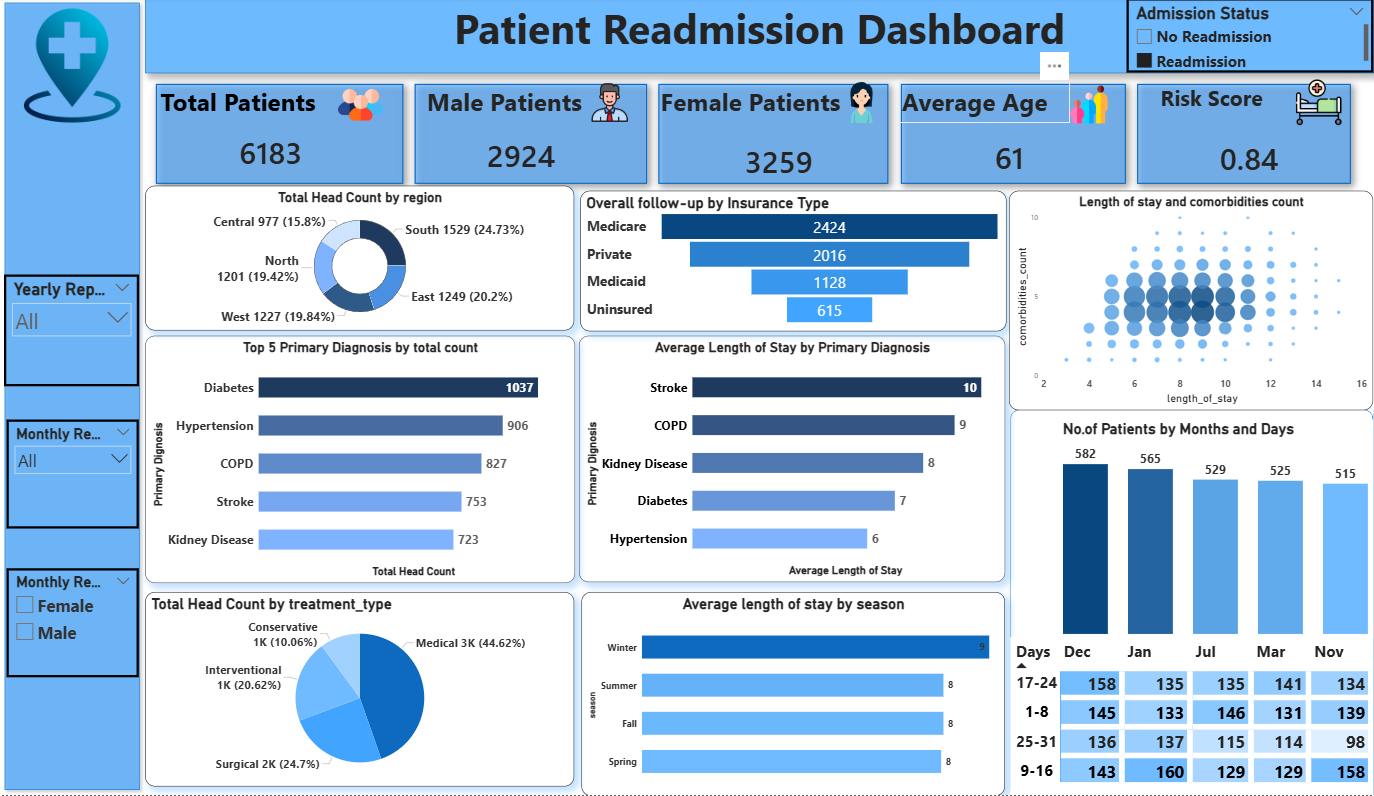

Layout of this report page (visuals, bound fields, positions):
{"tool":"powerbi","page":{"name":"Page 1","canvas":[2410,1400],"ordinal":0},"visuals":[{"type":"shape","box":[1773,723.2,636.1,677.3],"z":0},{"type":"shape","box":[256.4,0,2154.4,133.7],"z":1000},{"type":"shape","box":[0,0,256.4,1400.4],"z":2000},{"type":"shape","box":[256.4,133.7,471.2,212.6],"z":3000},{"type":"textbox","box":[256.4,0,2154.4,133.7],"z":4000},{"type":"image","box":[0,18.7,257.1,201.1],"z":5000},{"type":"cardVisual","title":"Total Patients","fields":{"Data":["hospital_readmission_dataset.Total Head Count"]},"box":[278.3,219.2,396.7,100.8],"z":6000},{"type":"shape","box":[710.1,133.7,444.9,212.6],"z":7000},{"type":"cardVisual","title":"Total Patients","fields":{"Data":["hospital_readmission_dataset.Male Patients"]},"box":[727.6,225.7,374.8,98.6],"z":8000},{"type":"textbox","box":[278.3,149,284.9,109.6],"z":9000},{"type":"shape","box":[1137.5,133.7,440.5,212.6],"z":10000},{"type":"cardVisual","title":"Total Patients","fields":{"Data":["hospital_readmission_dataset.Female Patients"]},"box":[1170.3,241.1,392.3,87.7],"z":11000},{"type":"shape","box":[1562.6,133.7,431.7,212.6],"z":12000},{"type":"shape","box":[1976.8,133.7,412,212.6],"z":13000},{"type":"cardVisual","title":"Total Patients","fields":{"Data":["hospital_readmission_dataset.Average Age"]},"box":[1597.7,234.5,346.3,87.7],"z":14000},{"type":"textbox","box":[745.2,149,304.6,96.4],"z":15000},{"type":"textbox","box":[1155,149,337.5,72.3],"z":16000},{"type":"textbox","box":[1578,149,300.3,72.3],"z":17000},{"type":"image","box":[590.2,150,89.5,79.8],"z":18000},{"type":"image","box":[1027.9,149,85.5,72.3],"z":19000},{"type":"image","box":[1461.8,149,100.8,72.3],"z":20000},{"type":"image","box":[1878.2,151.2,65.7,74.5],"z":21000},{"type":"cardVisual","title":"Total Patients","fields":{"Data":["hospital_readmission_dataset.Readmission Risk Score"]},"box":[2031.6,232.3,320,92],"z":22000},{"type":"textbox","box":[2031.6,146.8,227.9,74.5],"z":23000},{"type":"image","box":[2259.2,145.1,108.8,79.8],"z":24000},{"type":"donutChart","fields":{"Category":["hospital_readmission_dataset.region"],"Y":["hospital_readmission_dataset.Total Head Count"]},"box":[256.4,331.4,752.3,254],"z":28000},{"type":"barChart","title":"Top 5 Primary Diagnosis by total count","fields":{"Category":["hospital_readmission_dataset.primary_diagnosis"],"Y":["hospital_readmission_dataset.Total Head Count"]},"box":[256.4,593.9,753.9,433.9],"z":29000},{"type":"barChart","title":"Average Length of Stay by Primary Diagnosis","fields":{"Category":["hospital_readmission_dataset.primary_diagnosis"],"Y":["hospital_readmission_dataset.Average Length of Stay"]},"box":[1016.9,593.9,747.3,431.7],"z":30000},{"type":"funnel","title":"Overall follow-up by Insurance Type","fields":{"Category":["hospital_readmission_dataset.insurance_type"],"Y":["CountNonNull(hospital_readmission_dataset.followup_visits_last_year)"]},"box":[1018.3,338.6,747.4,246.7],"z":31000},{"type":"clusteredBarChart","title":"Average  length of stay by season","fields":{"Category":["hospital_readmission_dataset.season"],"Y":["Avg(hospital_readmission_dataset.length_of_stay)"]},"box":[1020.7,1042.5,742.6,358],"z":32000},{"type":"pivotTable","title":"No.of Patients by top 5months and days","fields":{"Rows":["hospital_readmission_dataset.Num Day of admission (groups)"],"Values":["hospital_readmission_dataset.Total Head Count"],"Columns":["hospital_readmission_dataset.Month Name of Admission"]},"box":[1773,1122.3,636.1,278.2],"z":33000},{"type":"columnChart","title":"No.of Patients by Months and Days","fields":{"Category":["hospital_readmission_dataset.Month Name of Admission"],"Y":["hospital_readmission_dataset.Total Head Count"]},"box":[1860.1,740.2,549.1,382.2],"z":34000},{"type":"pieChart","fields":{"Category":["hospital_readmission_dataset.treatment_type"],"Y":["hospital_readmission_dataset.Total Head Count"]},"box":[256.4,1042.5,752.3,341.1],"z":35000},{"type":"slicer","fields":{"Values":["Date Table.Date.Variation.Date Hierarchy.Year"]},"box":[9.7,486.2,237,195.9],"z":36000},{"type":"slicer","fields":{"Values":["Date Table.Date.Variation.Date Hierarchy.Month"]},"box":[12.1,740.2,232.2,191.1],"z":37000},{"type":"slicer","fields":{"Values":["hospital_readmission_dataset.gender"]},"box":[12.1,1001.4,232.2,191.1],"z":38000},{"type":"slicer","fields":{"Values":["hospital_readmission_dataset.Readmission Status"]},"box":[1976.2,2.4,433,130.6],"z":39000},{"type":"scatterChart","title":"Length of stay and comorbidities count","fields":{"X":["hospital_readmission_dataset.length_of_stay"],"Y":["hospital_readmission_dataset.comorbidities_count"],"Size":["CountNonNull(hospital_readmission_dataset.patient_id)"]},"box":[1770.6,338.6,638.6,384.6],"z":40000}]}

Visuals, with their boxes in screenshot pixels (x1, y1, x2, y2), scaled from the page's 2410x1400 canvas onto the 1374x796 screenshot:
shape: 1011 411 1373 795
shape: 146 0 1373 76
shape: 0 0 146 795
shape: 146 76 415 197
textbox: 146 0 1373 76
image: 0 11 147 125
"Total Patients" cardVisual: 159 125 385 182
shape: 405 76 658 197
"Total Patients" cardVisual: 415 128 629 184
textbox: 159 85 321 147
shape: 649 76 900 197
"Total Patients" cardVisual: 667 137 891 187
shape: 891 76 1137 197
shape: 1127 76 1362 197
"Total Patients" cardVisual: 911 133 1108 183
textbox: 425 85 599 140
textbox: 658 85 851 126
textbox: 900 85 1071 126
image: 336 85 388 131
image: 586 85 635 126
image: 833 85 891 126
image: 1071 86 1108 128
"Total Patients" cardVisual: 1158 132 1341 184
textbox: 1158 83 1288 126
image: 1288 82 1350 128
donutChart - hospital_readmission_dataset.region x hospital_readmission_dataset.Total Head Count: 146 188 575 333
"Top 5 Primary Diagnosis by total count" barChart: 146 338 576 584
"Average Length of Stay by Primary Diagnosis" barChart: 580 338 1006 583
"Overall follow-up by Insurance Type" funnel: 581 193 1007 333
"Average  length of stay by season" clusteredBarChart: 582 593 1005 795
"No.of Patients by top 5months and days" pivotTable: 1011 638 1373 795
"No.of Patients by Months and Days" columnChart: 1060 421 1373 638
pieChart - hospital_readmission_dataset.treatment_type x hospital_readmission_dataset.Total Head Count: 146 593 575 787
slicer - Date Table.Date.Variation.Date Hierarchy.Year: 6 276 141 388
slicer - Date Table.Date.Variation.Date Hierarchy.Month: 7 421 139 530
slicer - hospital_readmission_dataset.gender: 7 569 139 678
slicer - hospital_readmission_dataset.Readmission Status: 1127 1 1373 76
"Length of stay and comorbidities count" scatterChart: 1009 193 1373 411
